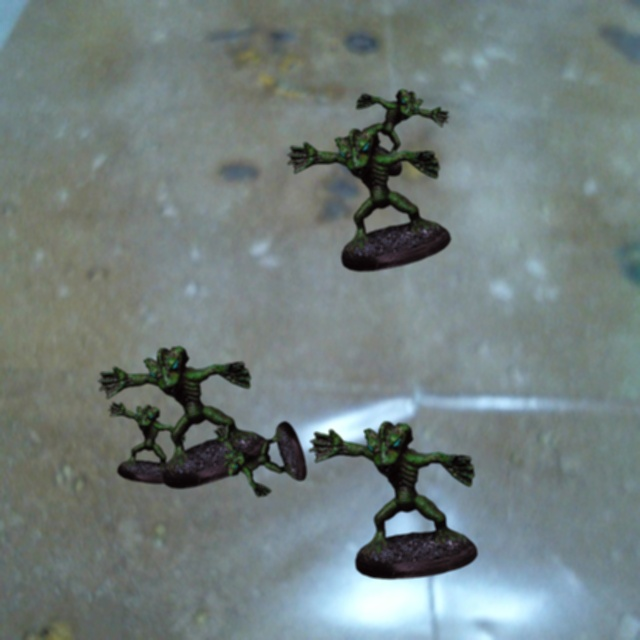pieza_juego: (309, 421, 477, 579), (98, 346, 269, 488), (287, 128, 450, 271), (339, 89, 448, 176), (214, 421, 306, 497), (108, 402, 185, 483)
